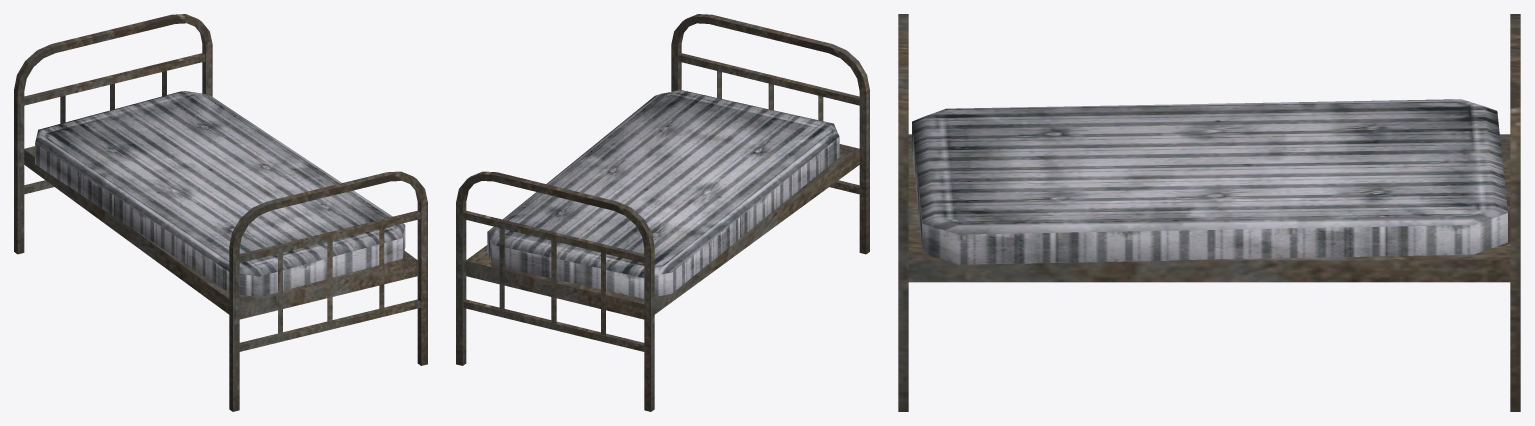
File: lova.obj
The picture shows the model from 3 angles, left to right: view 1: azimuth 30°, elevation 25°; view 2: azimuth 150°, elevation 25°; view 3: azimuth 270°, elevation 25°; orthographic projection. The views are drawn at different scales.
Size of the model in its own units: 1.22 by 1.19 by 2.38.
Materials: 2 (2 with a texture image).
